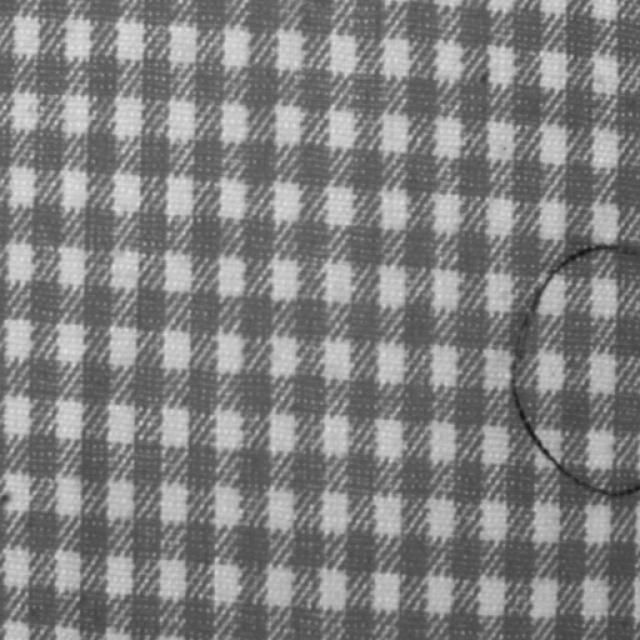Foreign-Body-Defect: (498, 235, 639, 501)
